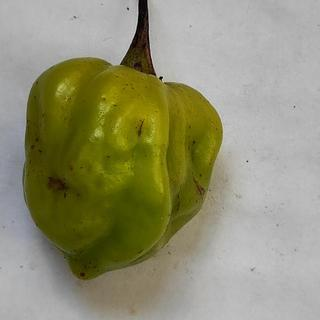Defect: (40, 172, 81, 200)
Fly-bites: (78, 261, 99, 282), (186, 133, 205, 153), (26, 136, 42, 158)
striped: (187, 172, 209, 200), (134, 118, 149, 141)
